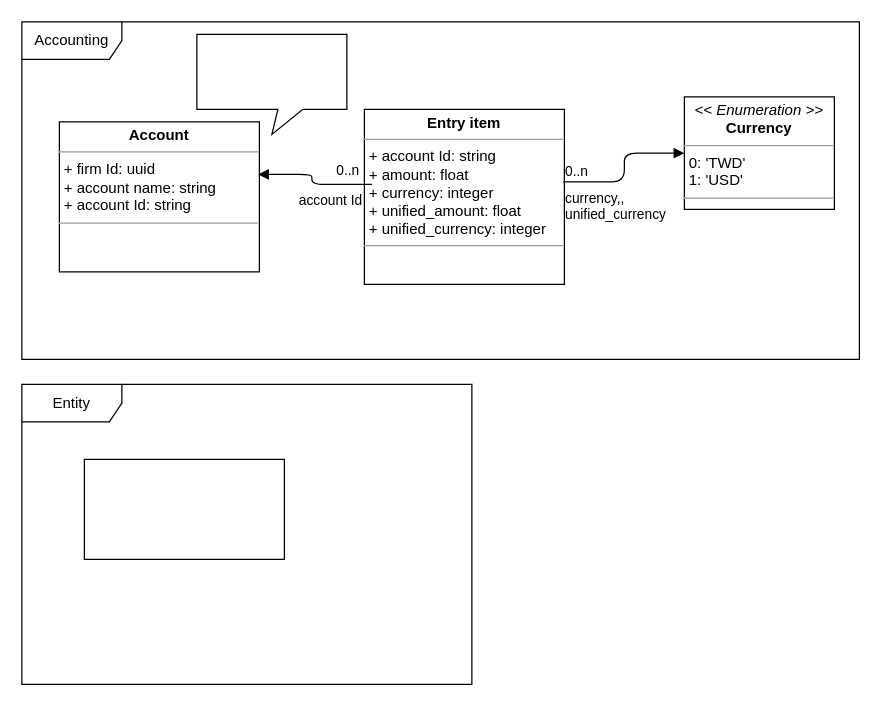
This 881x706 diagram has some shape labels left out. The shapes that lost their labels are listed below. From the top down, each one's centre as x and y in pixels, then its label:
At point 271,83: "Account Id 是會記帳號代碼，人為編列的編號文字，並依字面有階層關係。".
At point 183,508: "Firm + firm Id: uuid + firm name: string".
